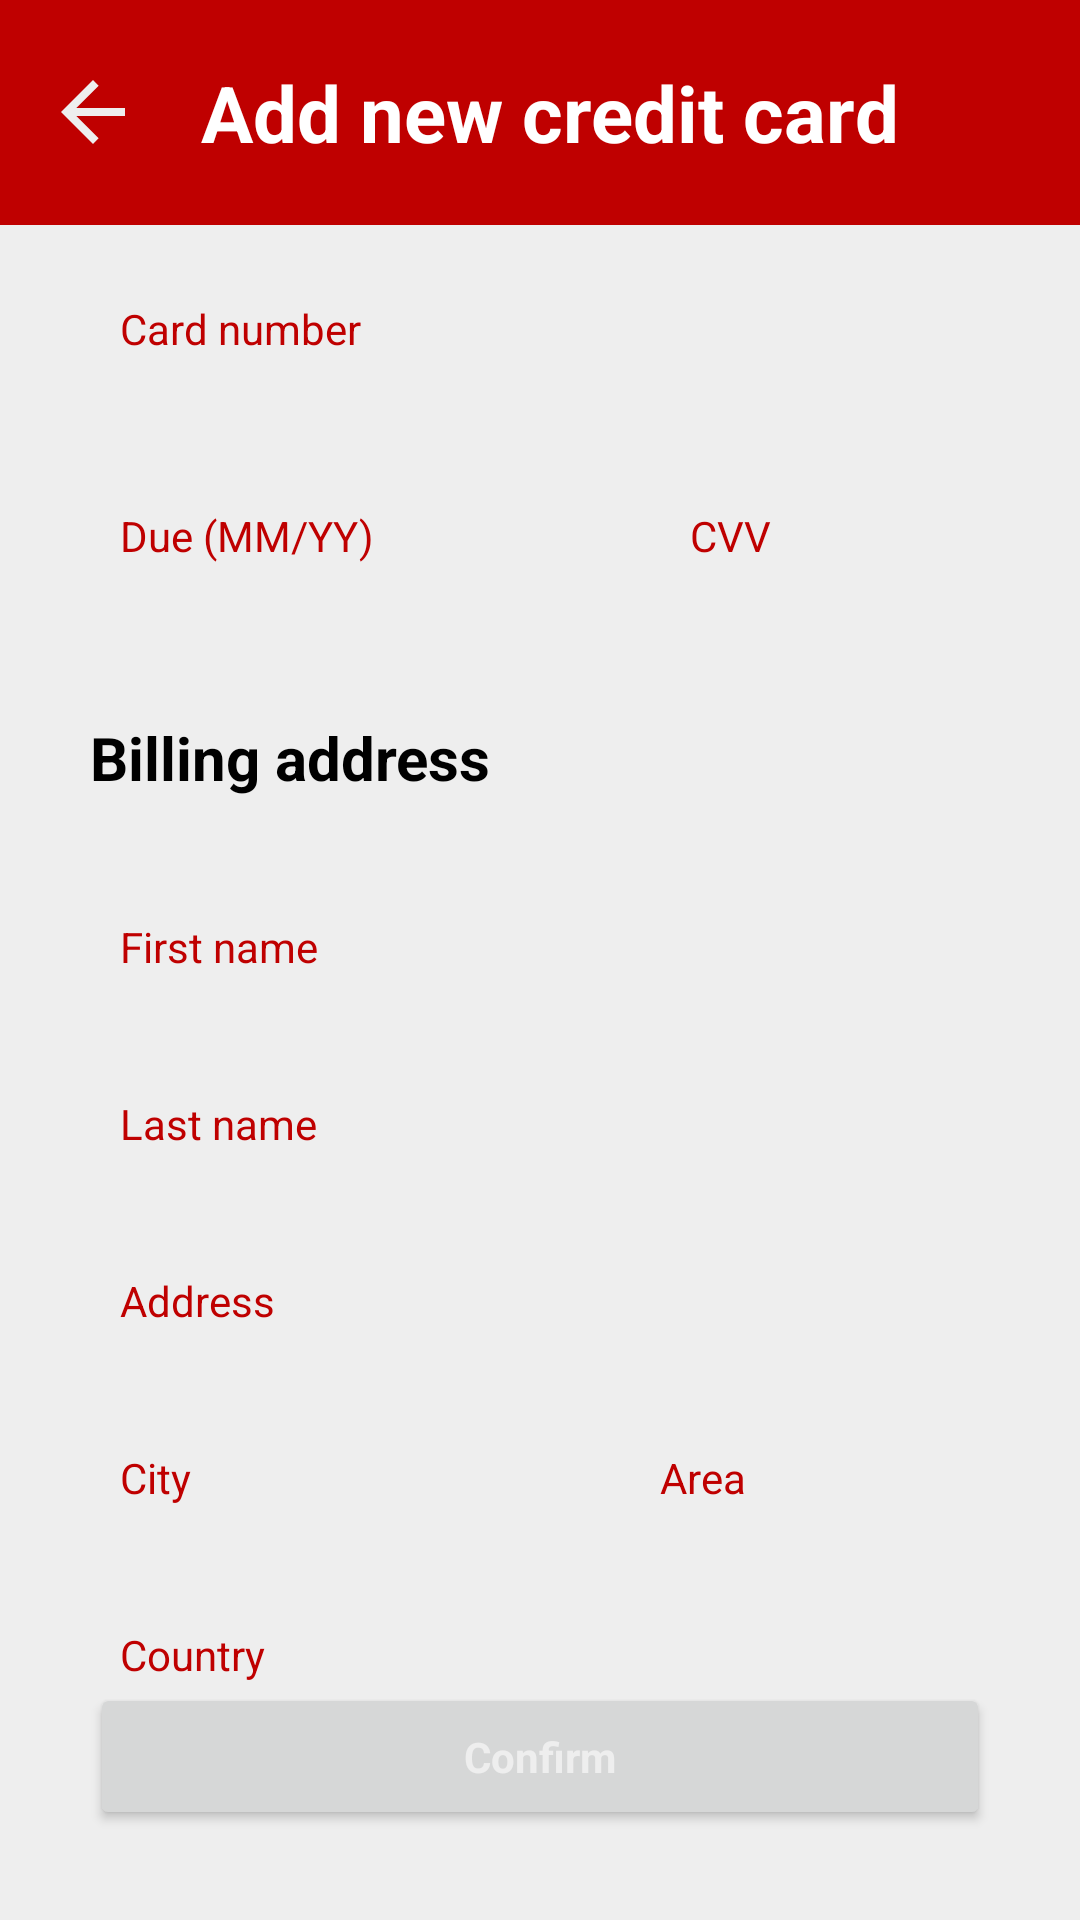

Icons on this 1080w x 1920h Android screen, each with its box as bbox=(x1, y1, x2, y2):
arrow back: bbox=(61, 80, 125, 144)
